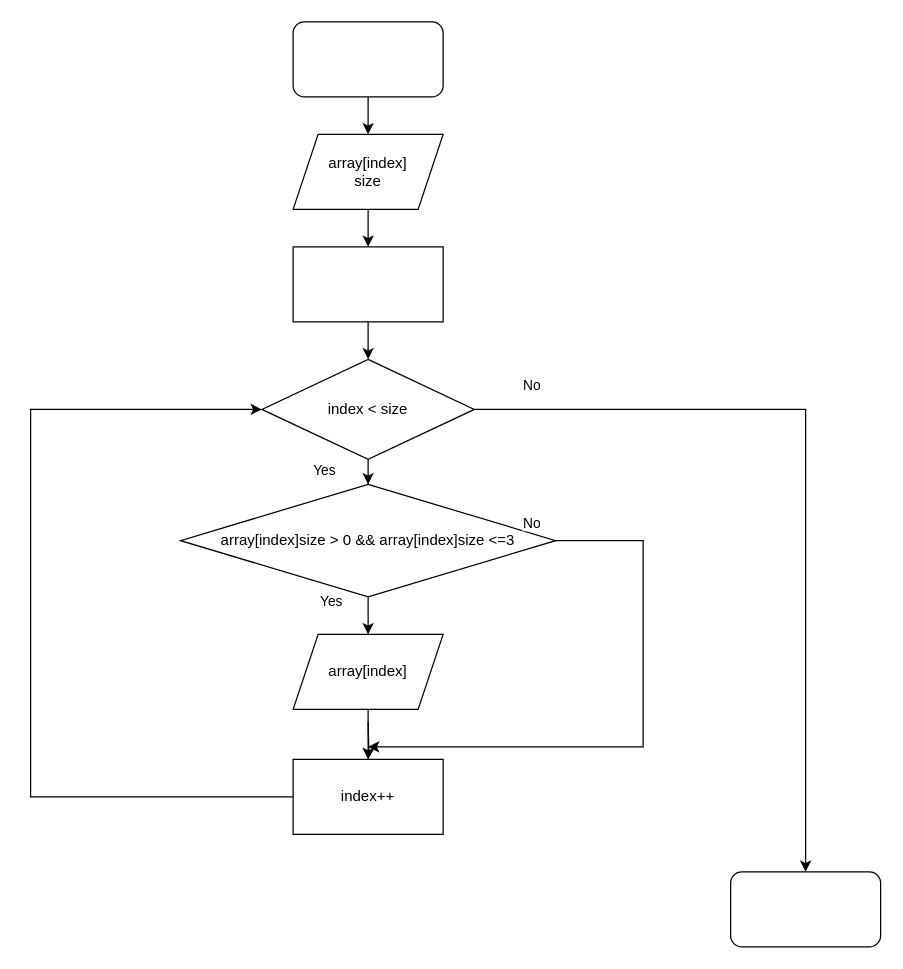
This 903x969 diagram has some shape labels left out. Here are the shapes that lost their labels. From the top down, the box of each, then its label:
(292, 21, 443, 97): Start
(292, 246, 443, 322): index = 0
(729, 871, 881, 947): Finish
